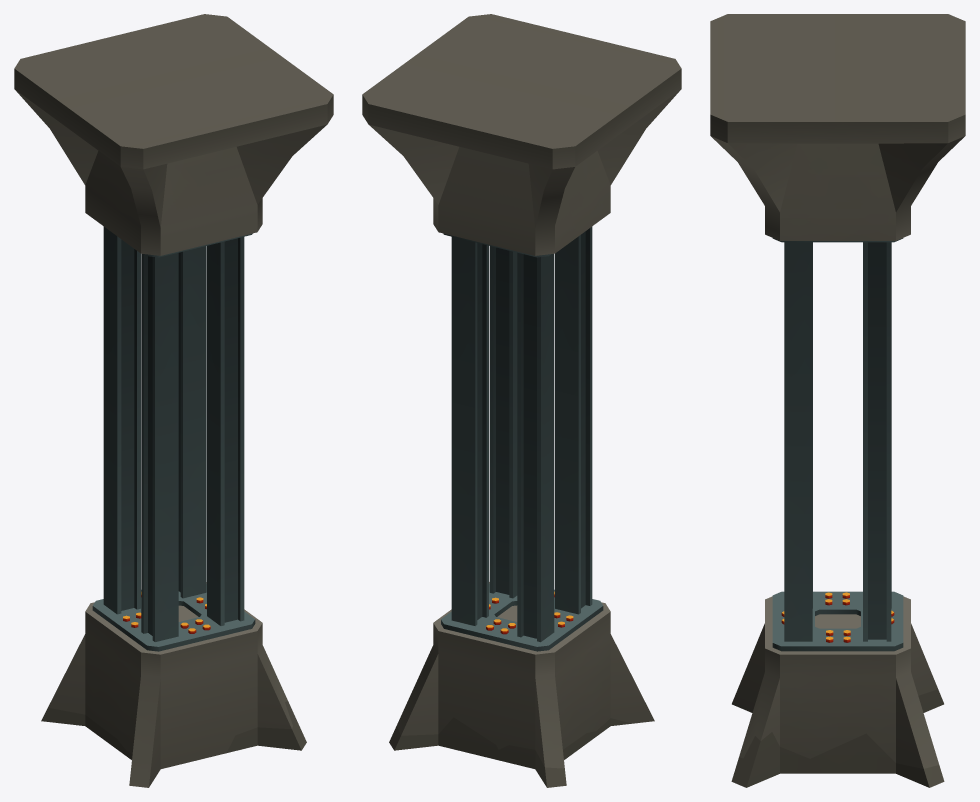
The model's file is Bridge_Pillar_1A.fbx.
3 views of the same model, side by side, from view 1: azimuth 30°, elevation 25°; view 2: azimuth 150°, elevation 25°; view 3: azimuth 270°, elevation 25° (orthographic). The views are drawn at different scales.
Visible parts, largest first — view 1: Bridge_Pillar_1A, Bridge_Pillar_1A_Base; view 2: Bridge_Pillar_1A, Bridge_Pillar_1A_Base; view 3: Bridge_Pillar_1A, Bridge_Pillar_1A_Base.
Boxes of the visible parts, x1,y1,x2,y2 form: Bridge_Pillar_1A: (14,14,333,641); Bridge_Pillar_1A_Base: (41,582,306,787); Bridge_Pillar_1A: (362,14,681,642); Bridge_Pillar_1A_Base: (389,582,654,787); Bridge_Pillar_1A: (710,14,965,641); Bridge_Pillar_1A_Base: (731,591,944,787).
Size of the model in its own units: 651 by 1900 by 651.
